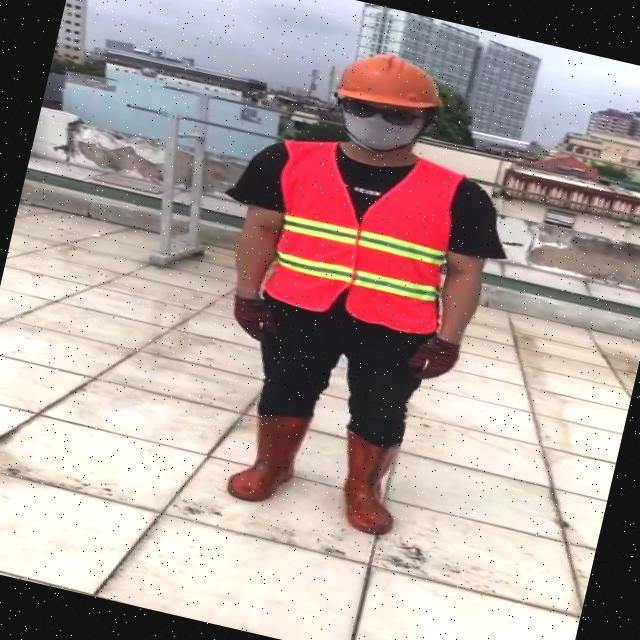boots: (326, 430, 412, 537), (226, 406, 308, 509)
